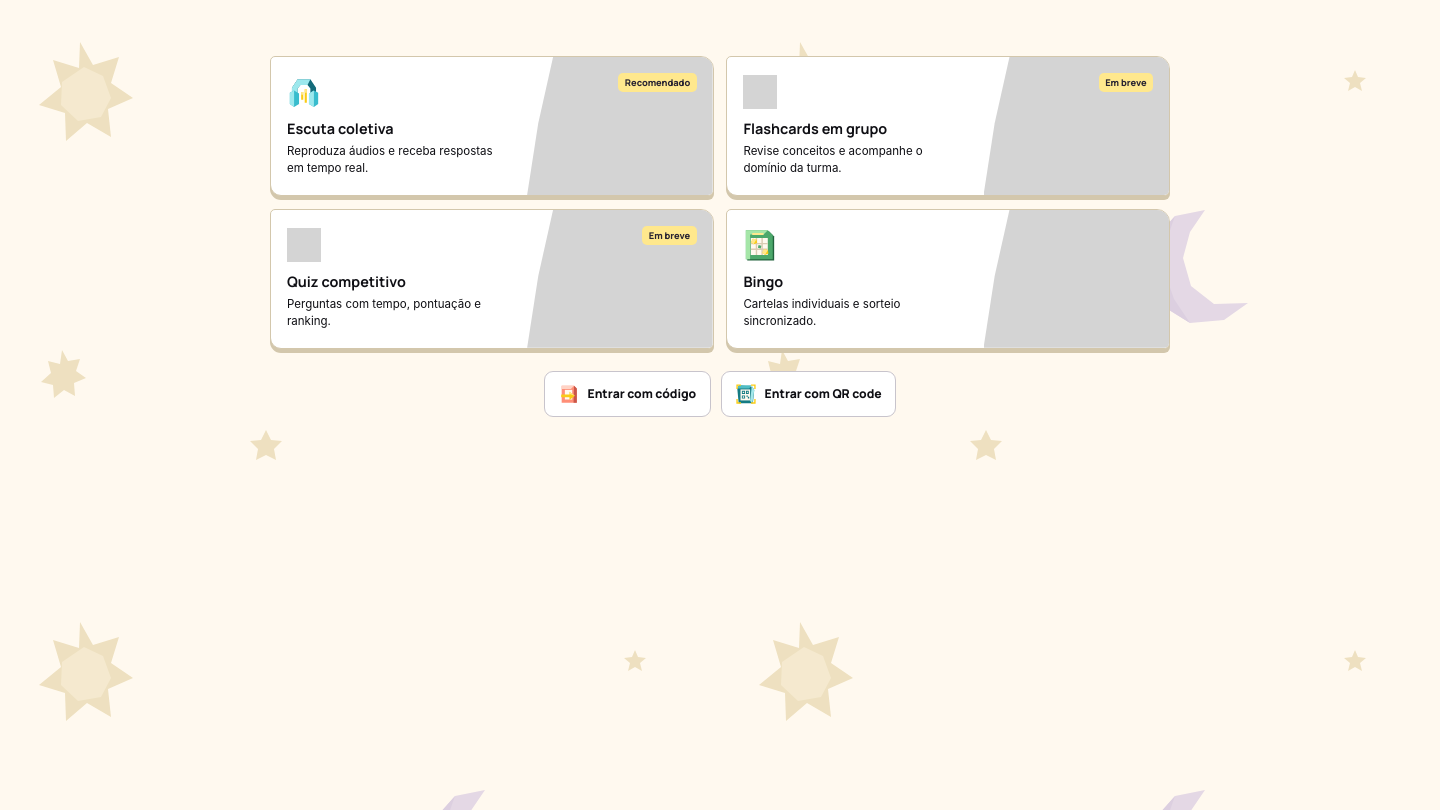
Test: chegada por link de convite › oferece entrada independente da modalidade e seleção aleatória de 5 a 50
Click the button "Entrar com código" at (627, 394), box [544,371,711,417]
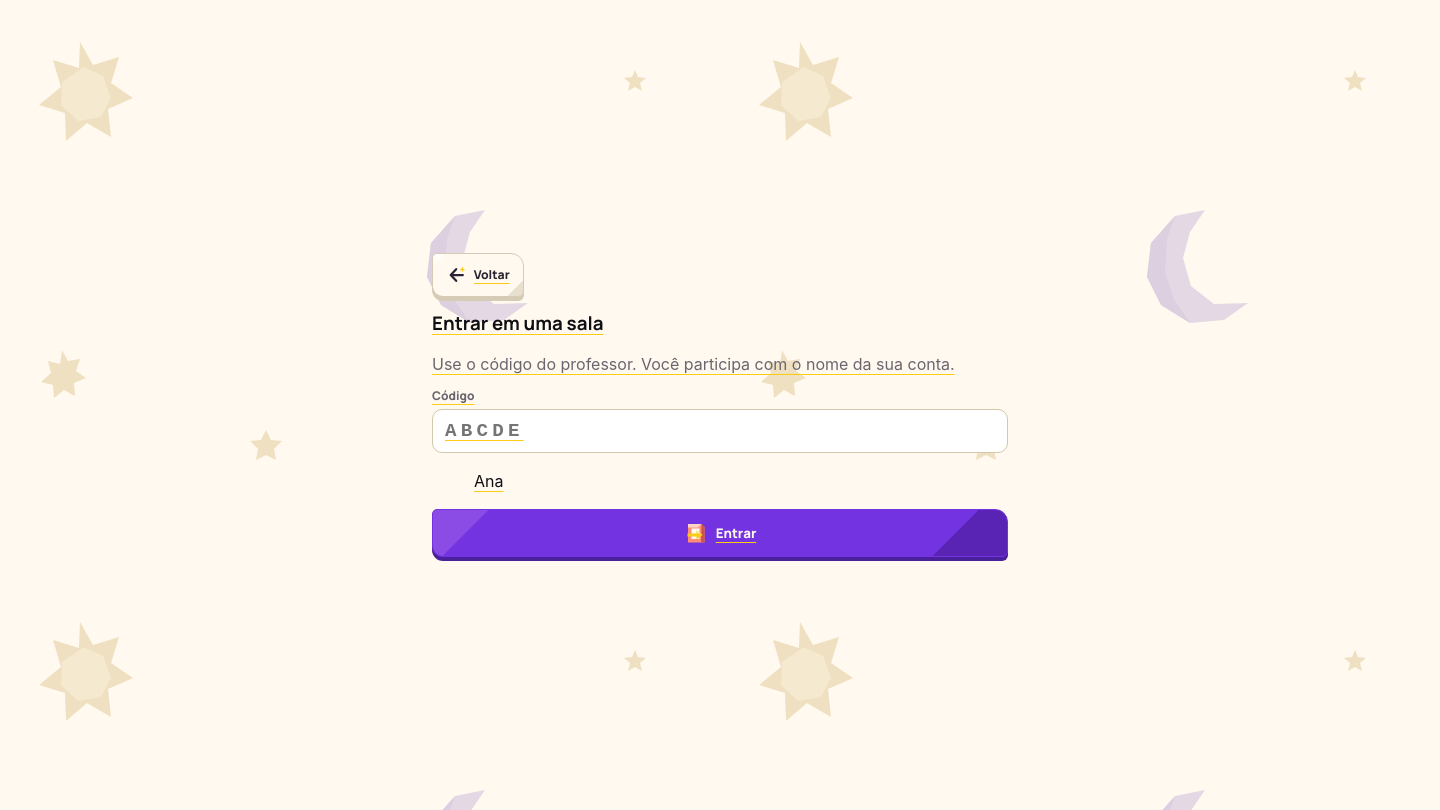
Expected: the field labelled "Código" is shown, [432,408,1008,453]
